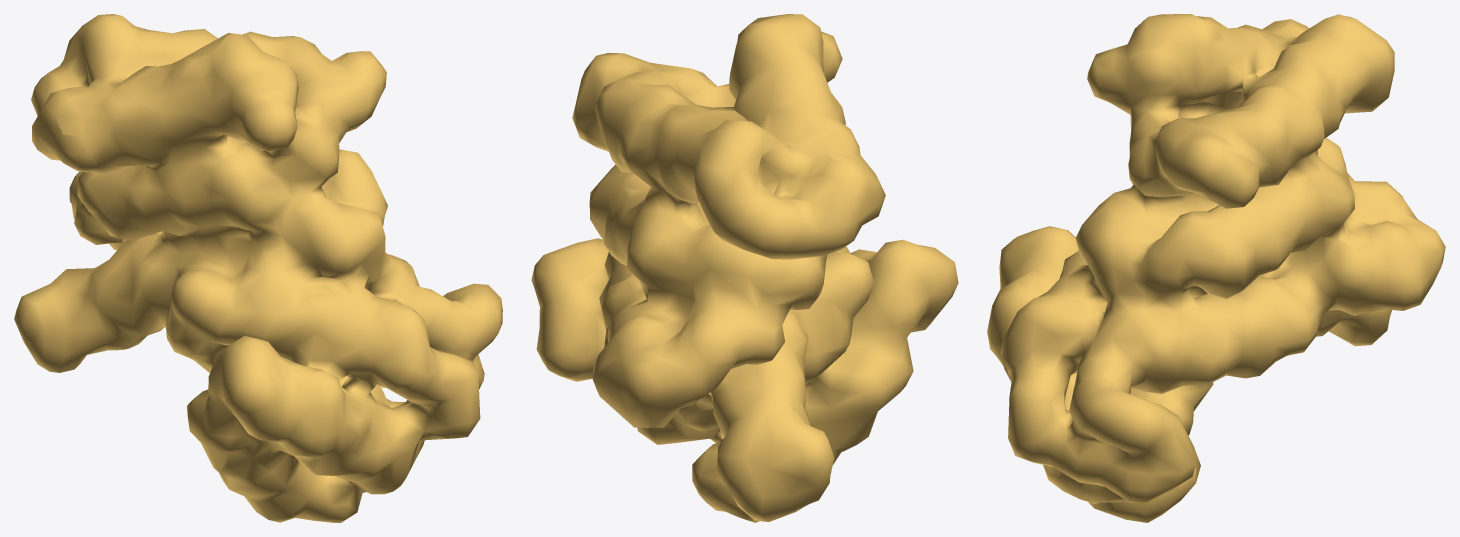
The model's file is translation_eif4g_specimen.glb.
3 renders of one model, left to right at view 1: azimuth 30°, elevation 25°; view 2: azimuth 150°, elevation 25°; view 3: azimuth 270°, elevation 25°, orthographic. The views are drawn at different scales.
Parts seen in each view (by area): view 1: GEO-eIF4G-1-fragment; view 2: GEO-eIF4G-1-fragment; view 3: GEO-eIF4G-1-fragment.
Boxes of the visible parts, x1=… form: GEO-eIF4G-1-fragment: x1=14, y1=14, x2=502, y2=522; GEO-eIF4G-1-fragment: x1=531, y1=14, x2=958, y2=522; GEO-eIF4G-1-fragment: x1=987, y1=14, x2=1445, y2=522.
Size of the model in its own units: 1.18 by 1.42 by 1.24.
